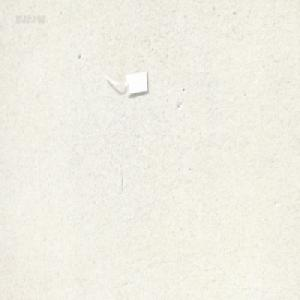LuggageTag: (102, 67, 150, 98)
